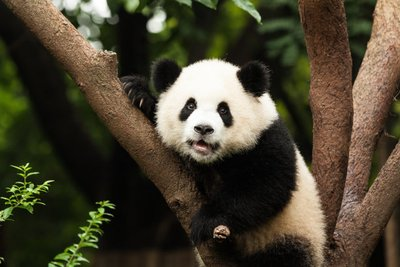panda: (111, 43, 334, 263)
